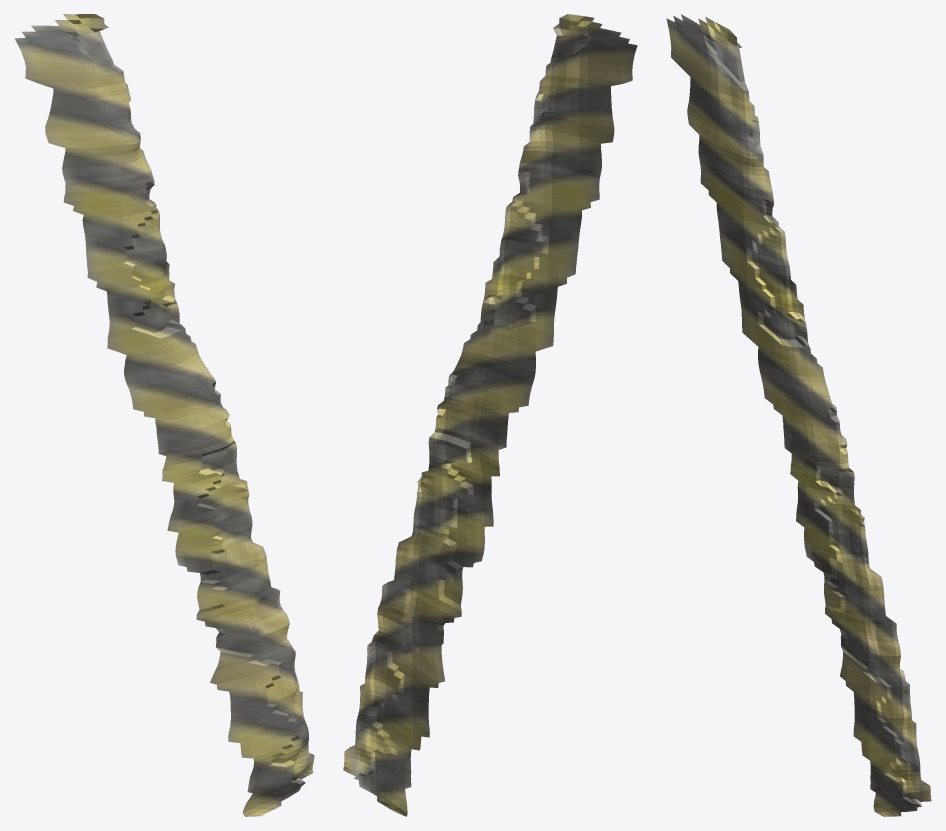
The model's file is entity-floor-marking-29.glb.
The picture shows the model from 3 angles, left to right: view 1: azimuth 30°, elevation 25°; view 2: azimuth 150°, elevation 25°; view 3: azimuth 330°, elevation 25°; orthographic projection. The views are drawn at different scales.
Parts seen in each view (by area): view 1: geometry_0; view 2: geometry_0; view 3: geometry_0.
Boxes of the visible parts, x1,y1,x2,y2 form: geometry_0: (14,14,314,816); geometry_0: (343,14,637,816); geometry_0: (666,14,931,816).
Size of the model in its own units: 0.6304 by 1.72 by 0.0589.
